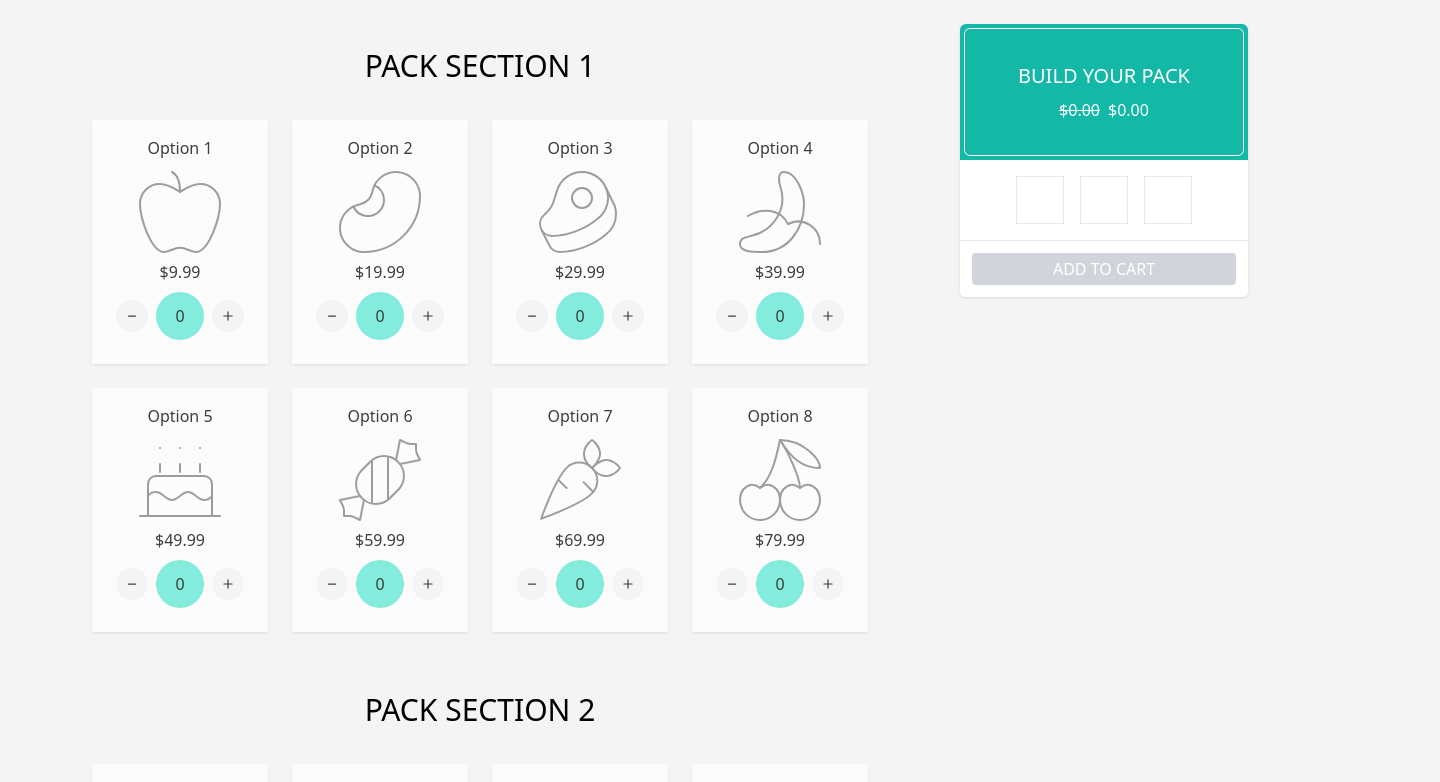
Test case: Bundle Builder Page › Should add to or remove from bundle
Click the 1st button with class "add-product".
click(228, 316)  # box [212,300,244,332]
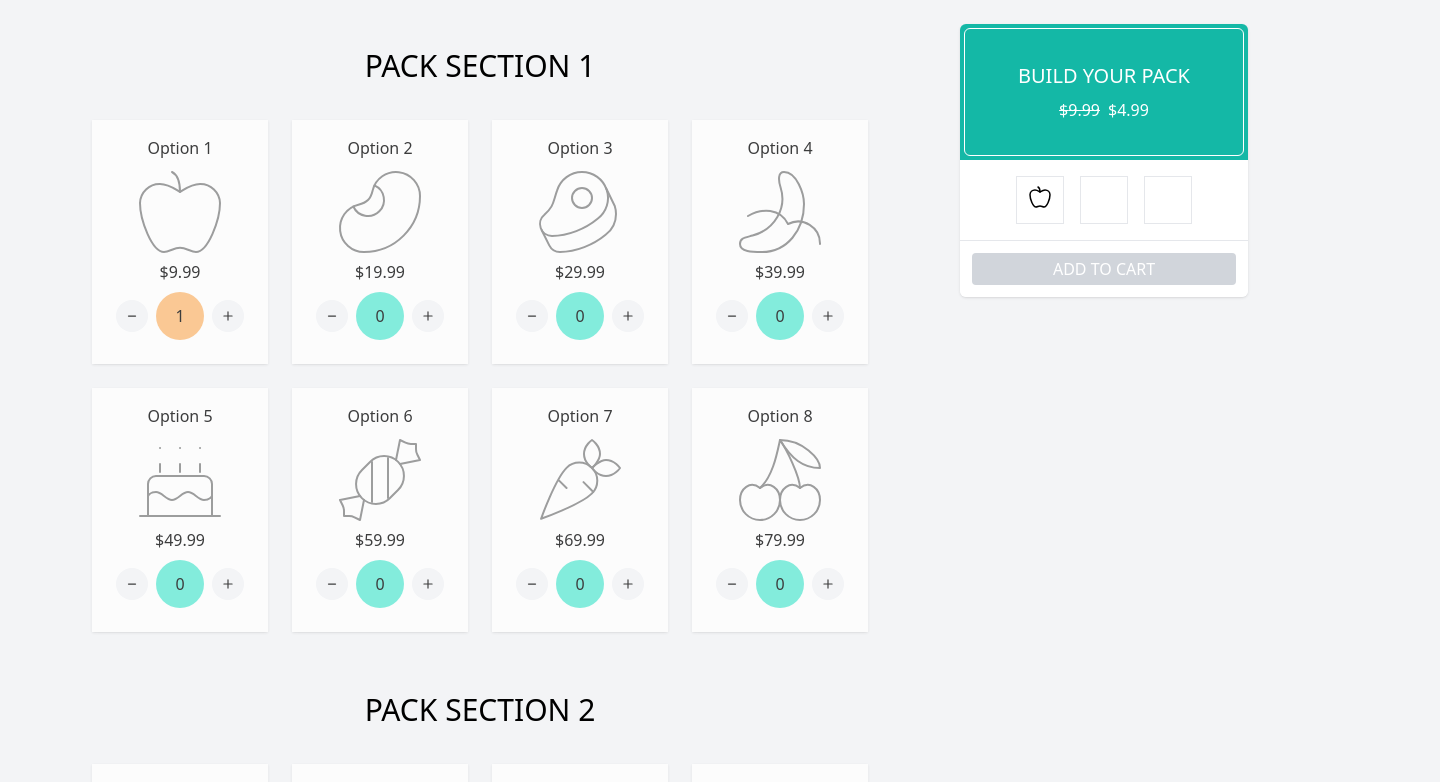
Result: the text with class "count-in-bundle" reads "1" at [156,292,204,340]
Click the 1st button with class "remove-product".
click(132, 316)  # box [116,300,148,332]
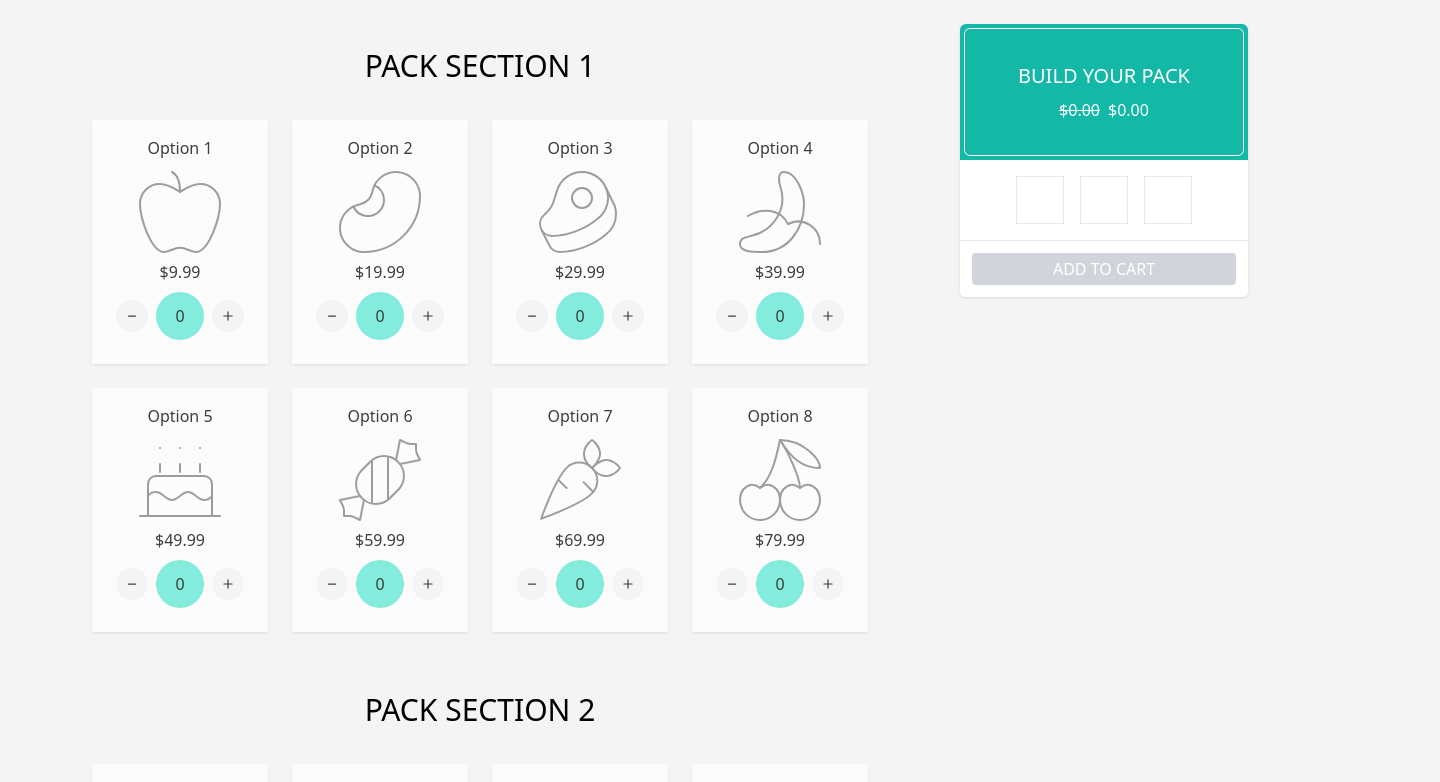
Result: the 1st text with class "count-in-bundle" reads "0" at [156,292,204,340]
